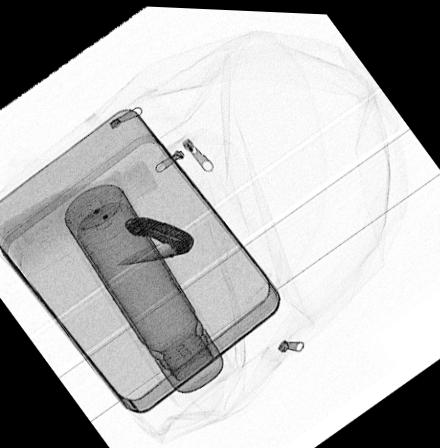Knife: (113, 214, 194, 265)
